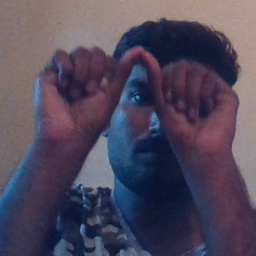A: (57, 44, 216, 140)
